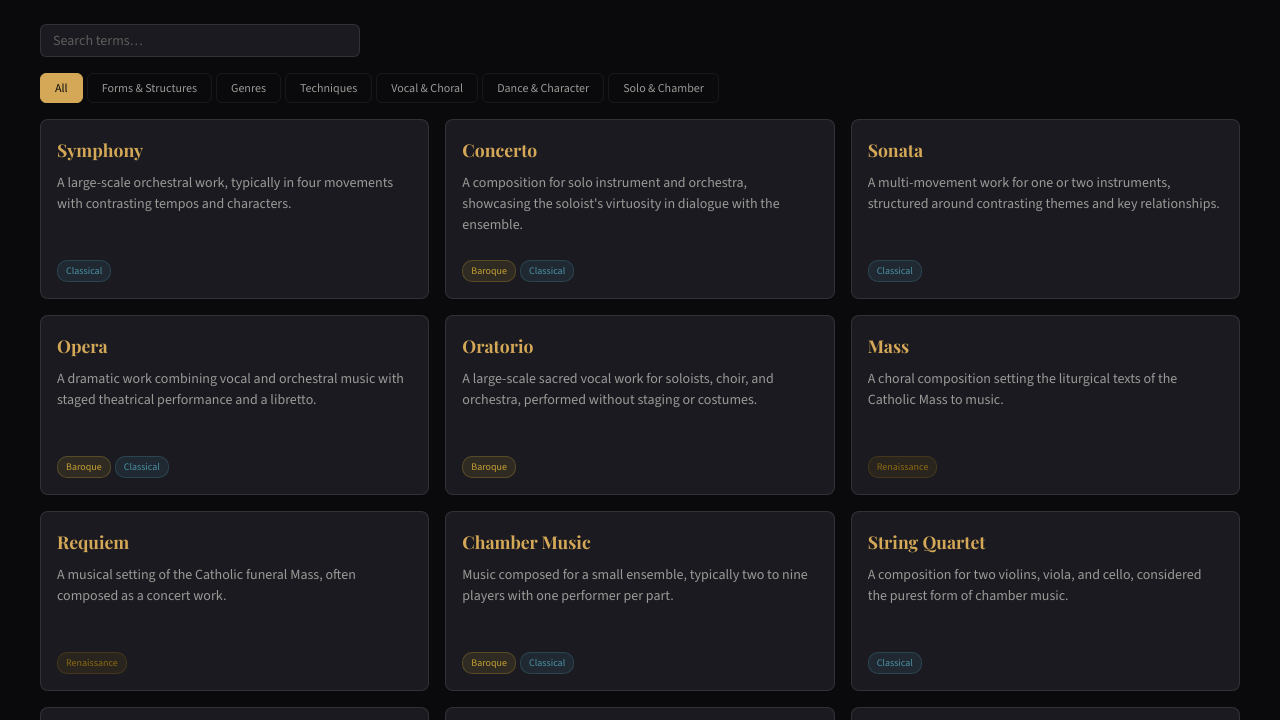
TermExplorer — Spotify links in modal › renders clickable Spotify button for example compositions with spotifyUrl
# Open the Symphony modal by clicking its card
Click the heading "Symphony" at (100, 150), box [57, 138, 143, 161]
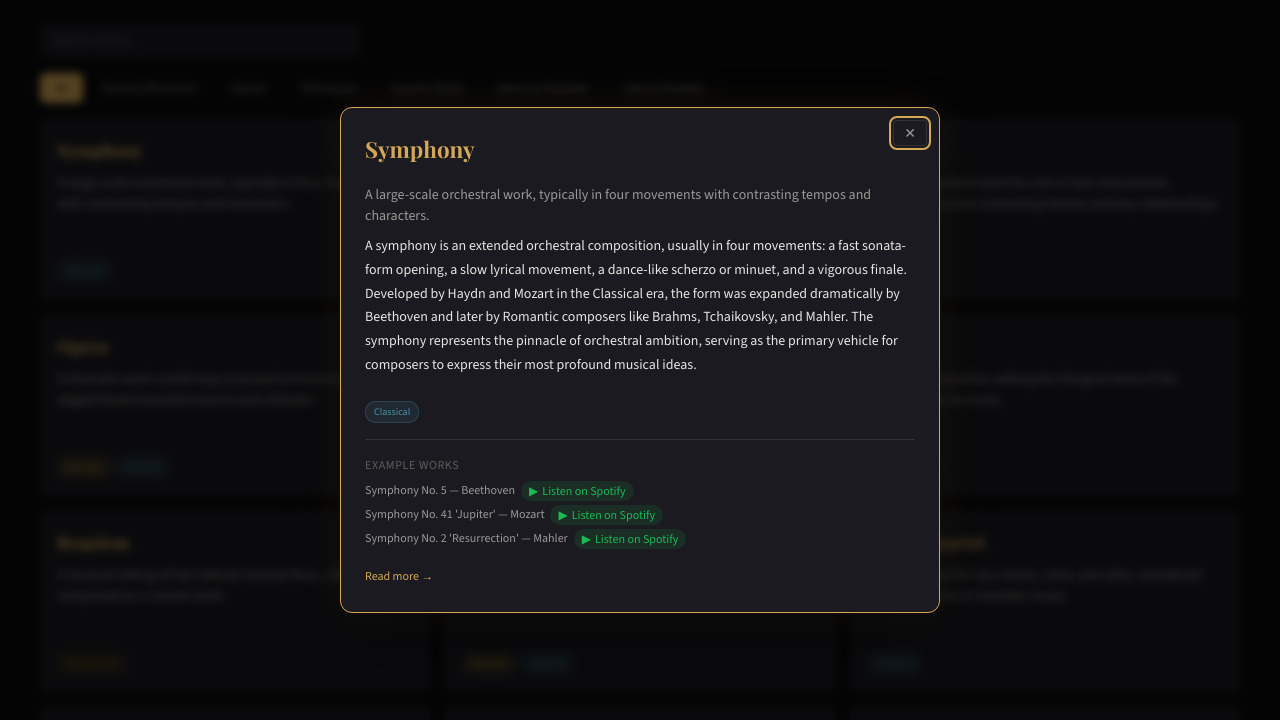
Now the button "▶ Listen on Spotify" next to "— Beethoven" is shown, box [521, 481, 634, 501]
